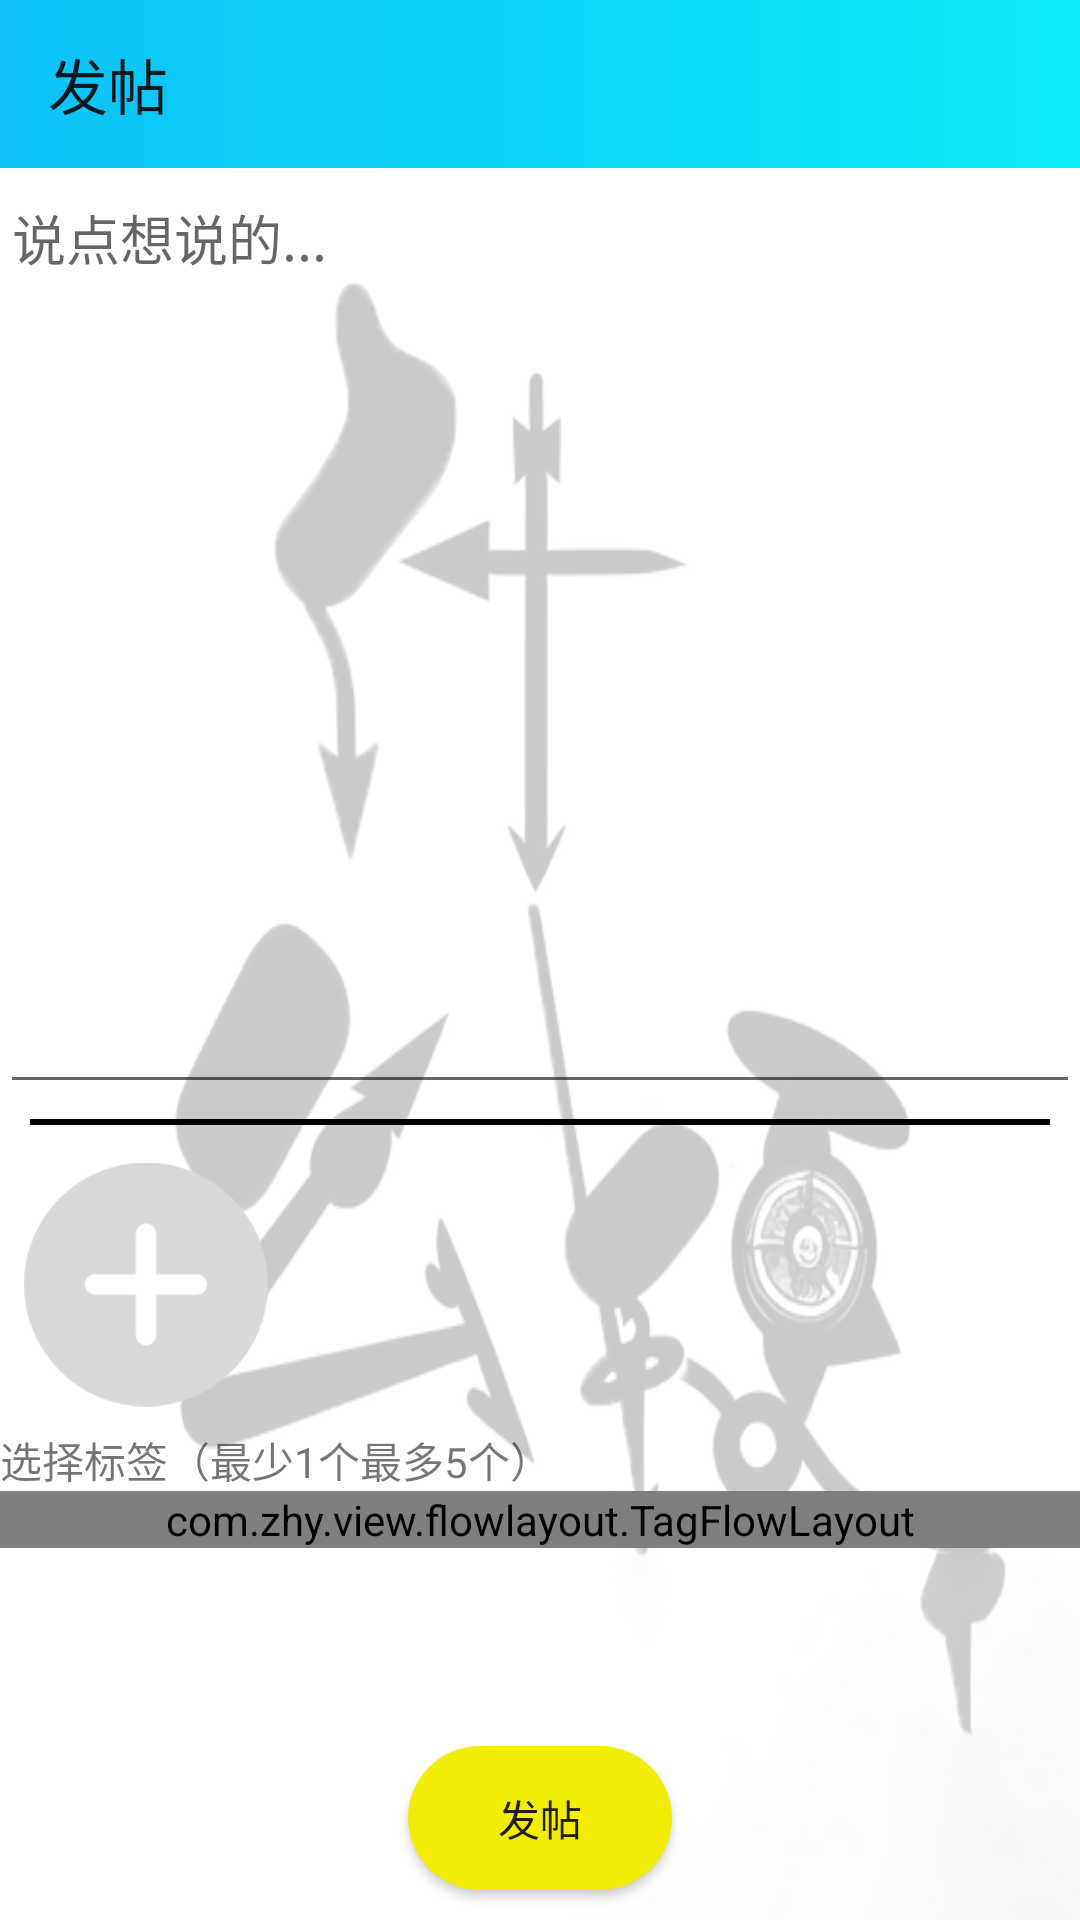

Locate icon controls on the screen. Image size 1080*1920, boxes as rect(x1, y1, x2, y2).
choose picture: rect(24, 1140, 277, 1429)
